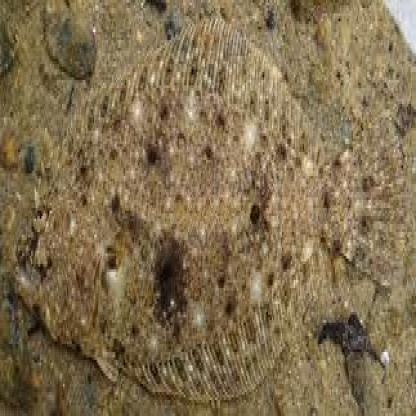flounder: (18, 29, 400, 371)
